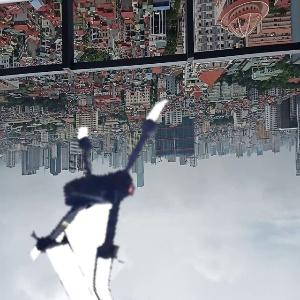drone: (9, 90, 213, 294)
